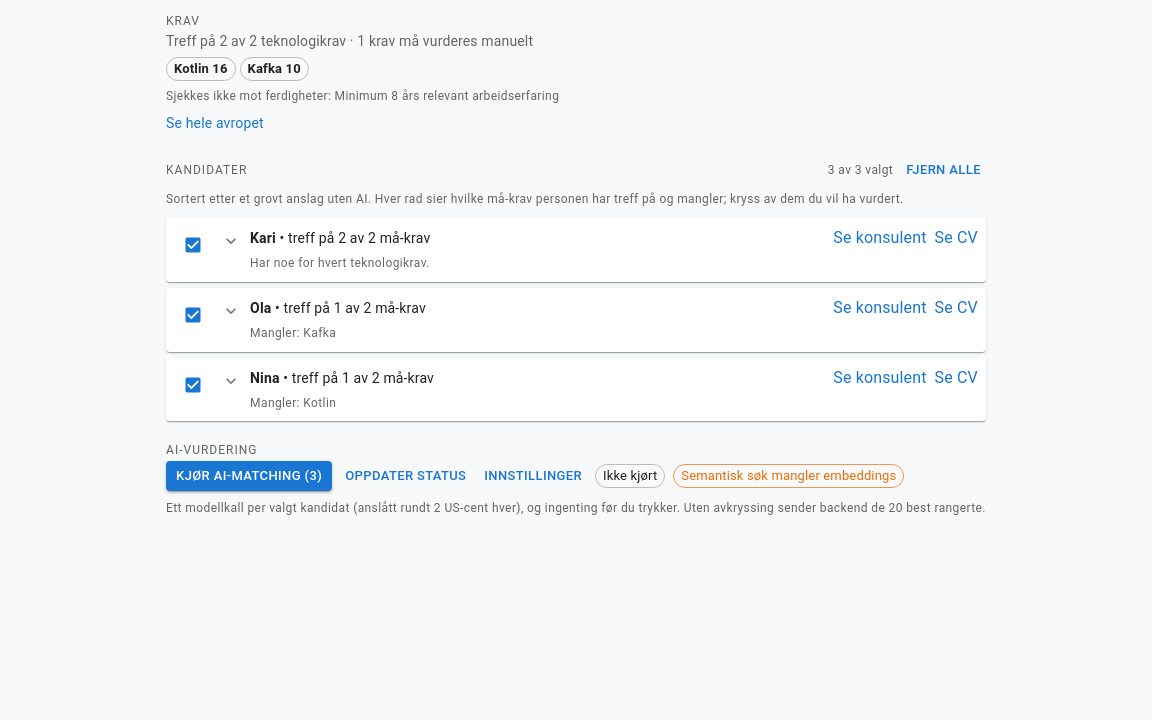
Test case: RequestMatchPanel › keeps the backend order and says when CV quality moved somebody
Expected: the text "3 av 3 valgt" is shown, [828, 160, 893, 180]
Click the button "Kjør AI-matching (3)". click: (249, 476)
box: [166, 461, 332, 492]
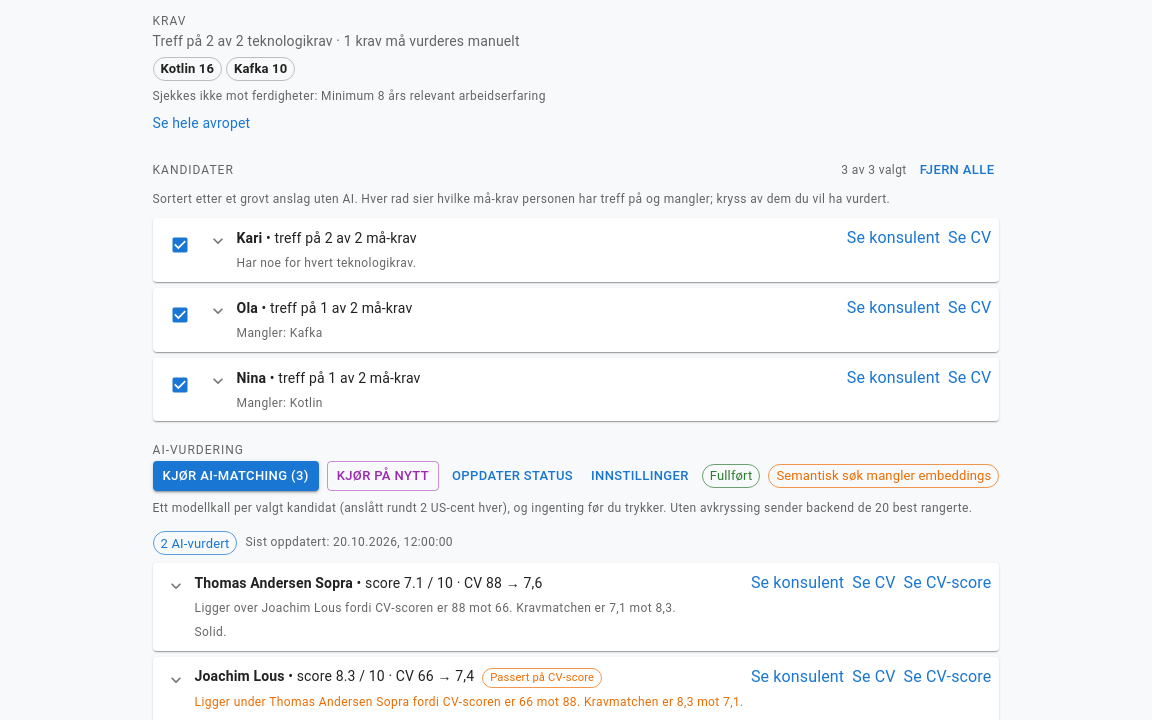
Result: the text "2 AI-vurdert" is shown at [161, 536, 230, 551]
Result: the text "CV 66 → 7,4" is shown at [385, 668, 474, 684]
Result: the text "Passert på CV-score" is shown at [483, 670, 601, 686]
